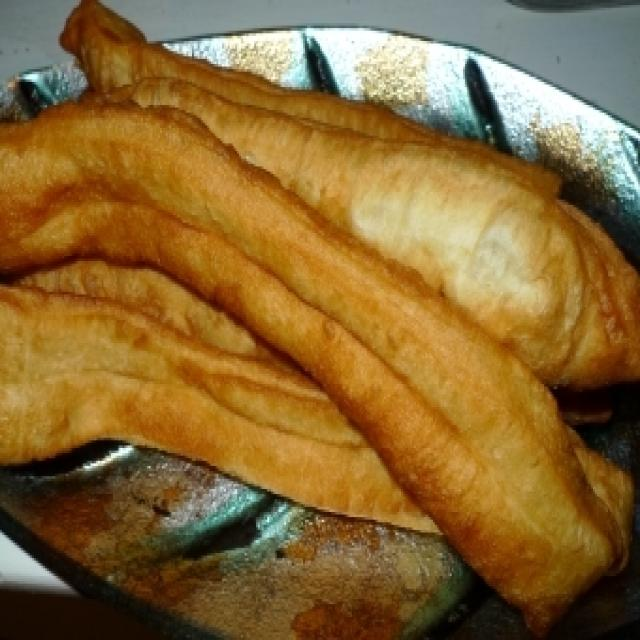炸货点心: (11, 5, 621, 589)
